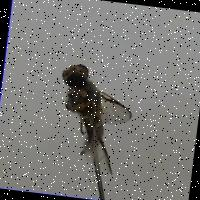Oriental-fruit-fly: (46, 54, 145, 176)
